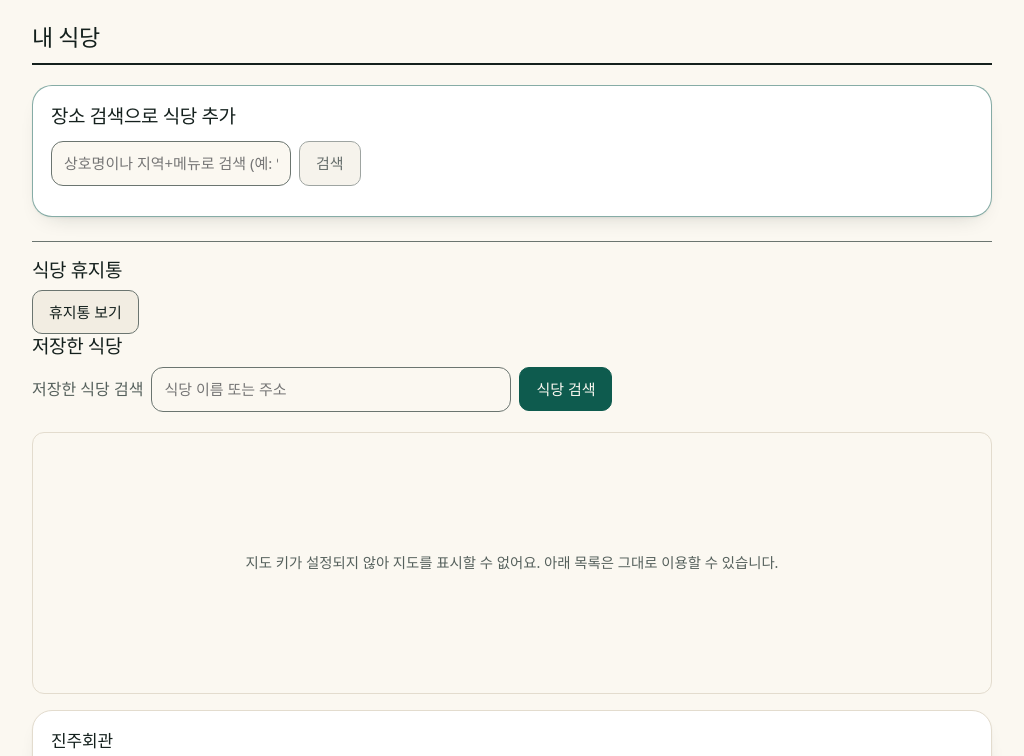
저장한 식당 검색 › 초기화하면 전체 목록을 다시 표시하고 검색창으로 초점을 옮긴다
Type "중구" into the search field labelled "저장한 식당 검색" at (331, 389), box [151, 367, 511, 412]
Then press Enter
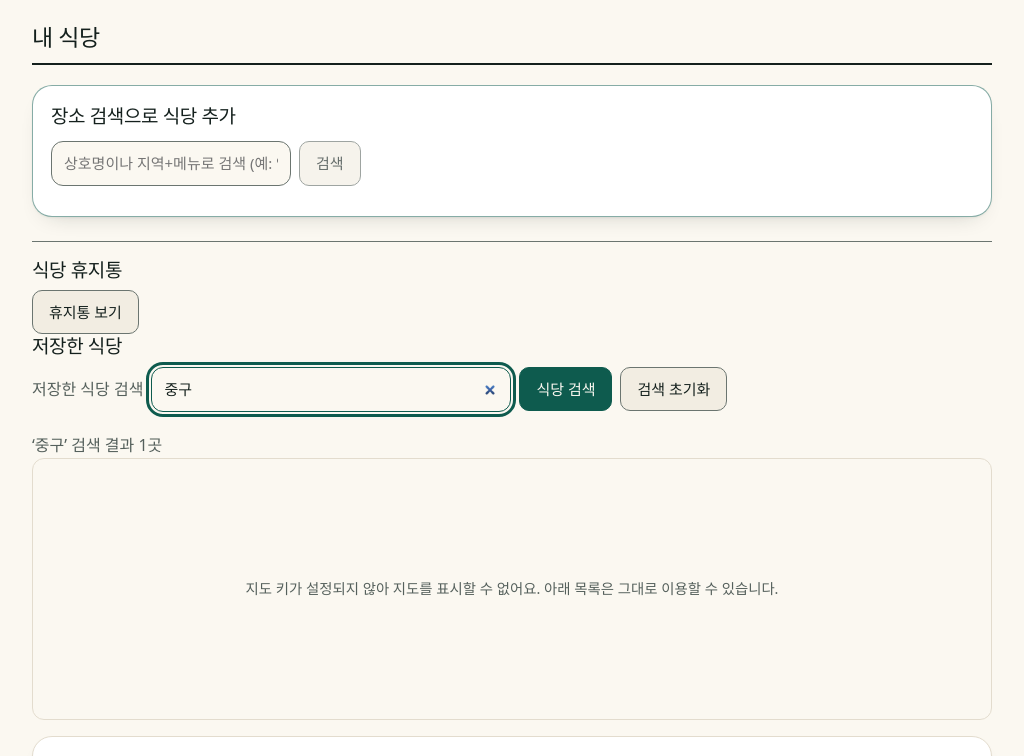
Expected: the text "‘중구’ 검색 결과 1곳" is shown, [32, 434, 162, 456]
Click the button "검색 초기화" at (674, 389), box [620, 367, 727, 411]
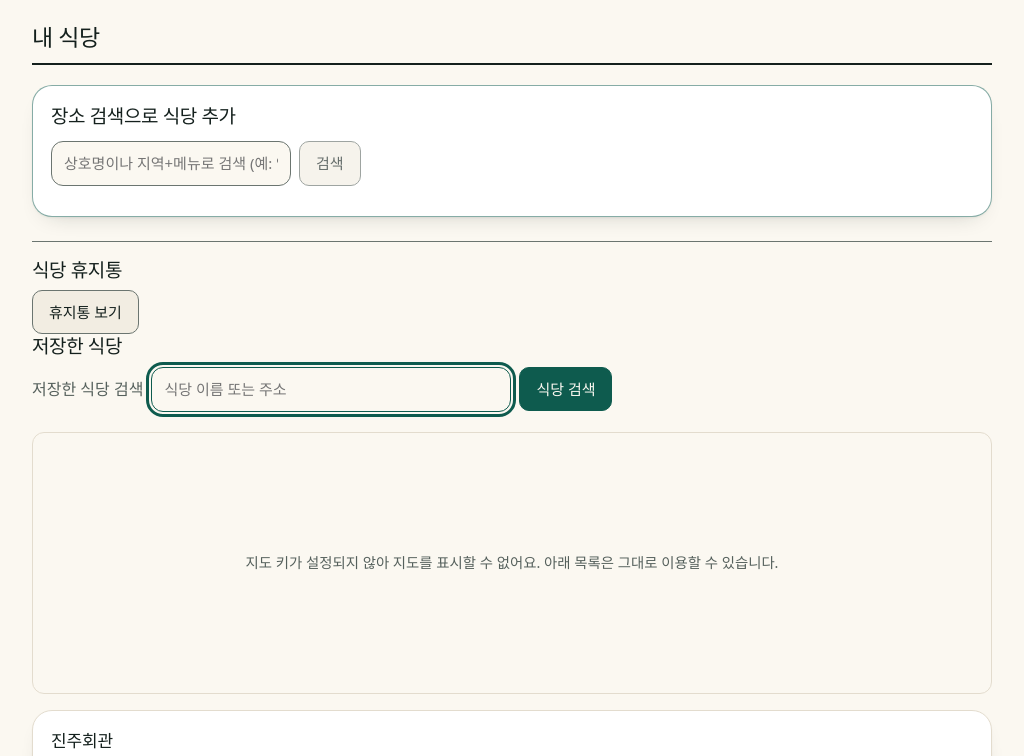
Expected: the search field labelled "저장한 식당 검색" is empty, [151, 367, 511, 412]
